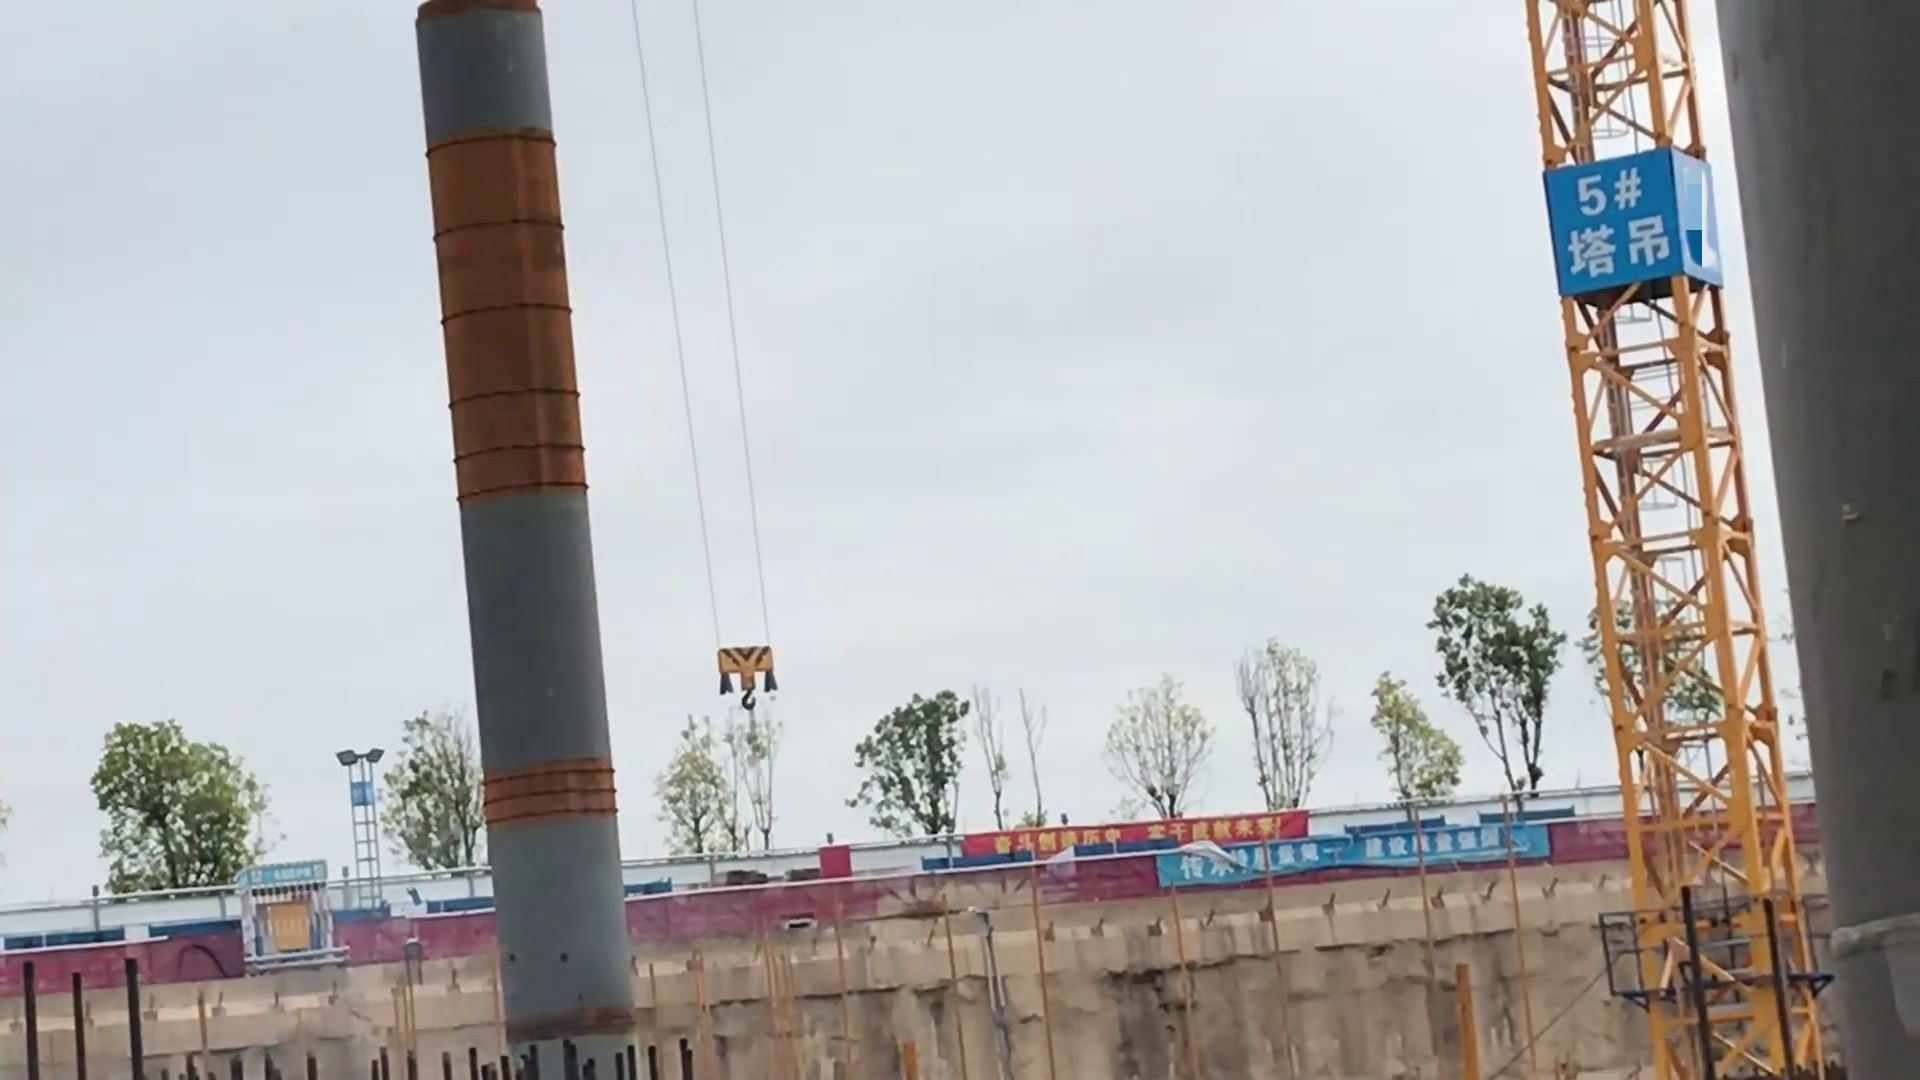ebox: (258, 901, 310, 951)
hook: (713, 641, 781, 713)
slogan: (1160, 823, 1548, 885), (963, 808, 1308, 862)
